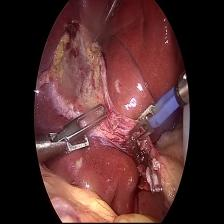Bipolar: (126, 81, 185, 150)
Grasper: (36, 99, 110, 167), (88, 1, 123, 51)
